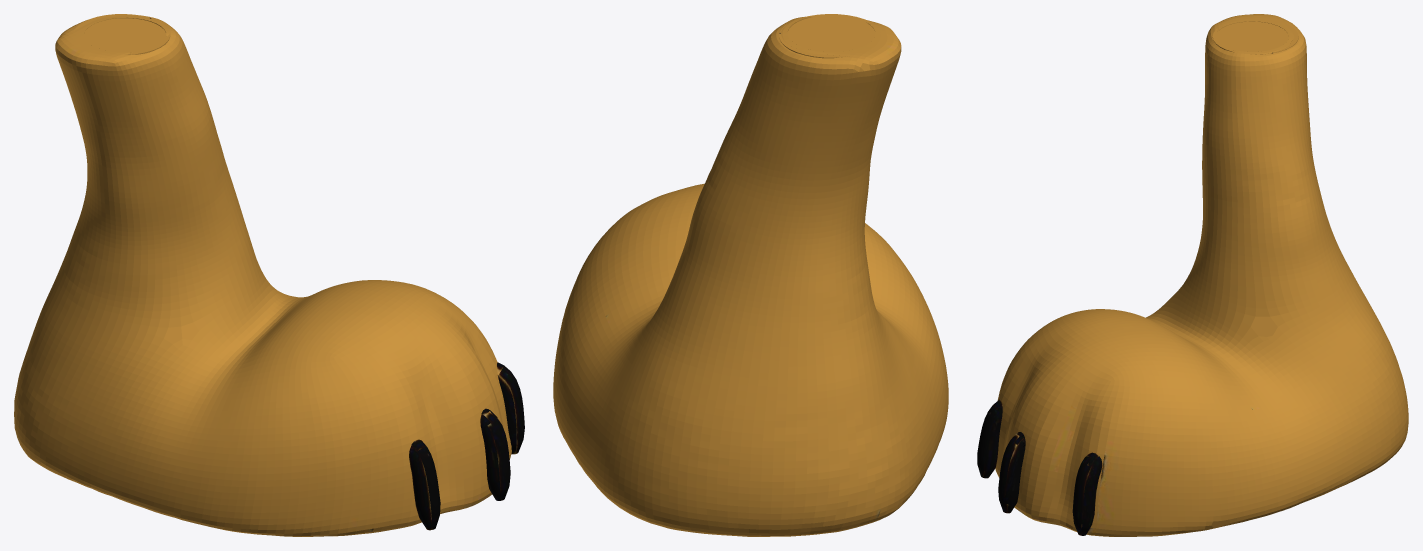
The model's file is LEGs_bearL.glb.
The picture shows the model from 3 angles, left to right: view 1: azimuth 30°, elevation 25°; view 2: azimuth 150°, elevation 25°; view 3: azimuth 270°, elevation 25°; orthographic projection. The views are drawn at different scales.
Parts seen in each view (by area): view 1: LEGs_bearL; view 2: LEGs_bearL; view 3: LEGs_bearL.
Part boxes in pixels (x1=…): LEGs_bearL: x1=14, y1=14, x2=524, y2=536; LEGs_bearL: x1=553, y1=14, x2=948, y2=536; LEGs_bearL: x1=977, y1=14, x2=1408, y2=536.
Size of the model in its own units: 30.46 by 32.26 by 33.56.
Materials: 1 (1 with a texture image).
